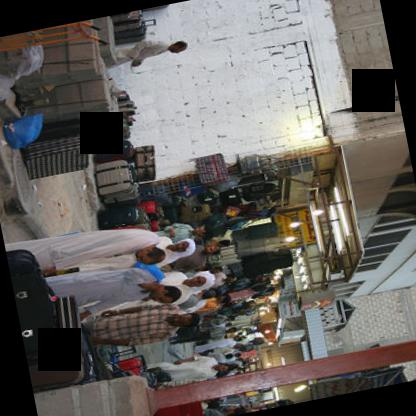backpack: (239, 183, 277, 201), (178, 203, 212, 223), (218, 188, 238, 207), (229, 277, 249, 290), (274, 399, 293, 407)
handbag: (3, 111, 44, 147), (130, 261, 165, 283), (243, 155, 278, 170), (194, 190, 221, 206), (222, 201, 248, 217), (203, 212, 226, 230), (226, 288, 254, 302), (133, 206, 150, 226), (253, 195, 272, 211), (108, 225, 137, 229), (146, 213, 158, 221)
suitcase: (0, 7, 232, 415), (10, 273, 60, 367), (19, 133, 90, 180), (27, 341, 85, 394), (93, 159, 134, 199), (28, 118, 86, 143), (55, 294, 82, 344), (4, 248, 41, 277), (96, 206, 136, 230), (133, 144, 154, 183), (152, 400, 201, 416), (94, 139, 129, 160)
